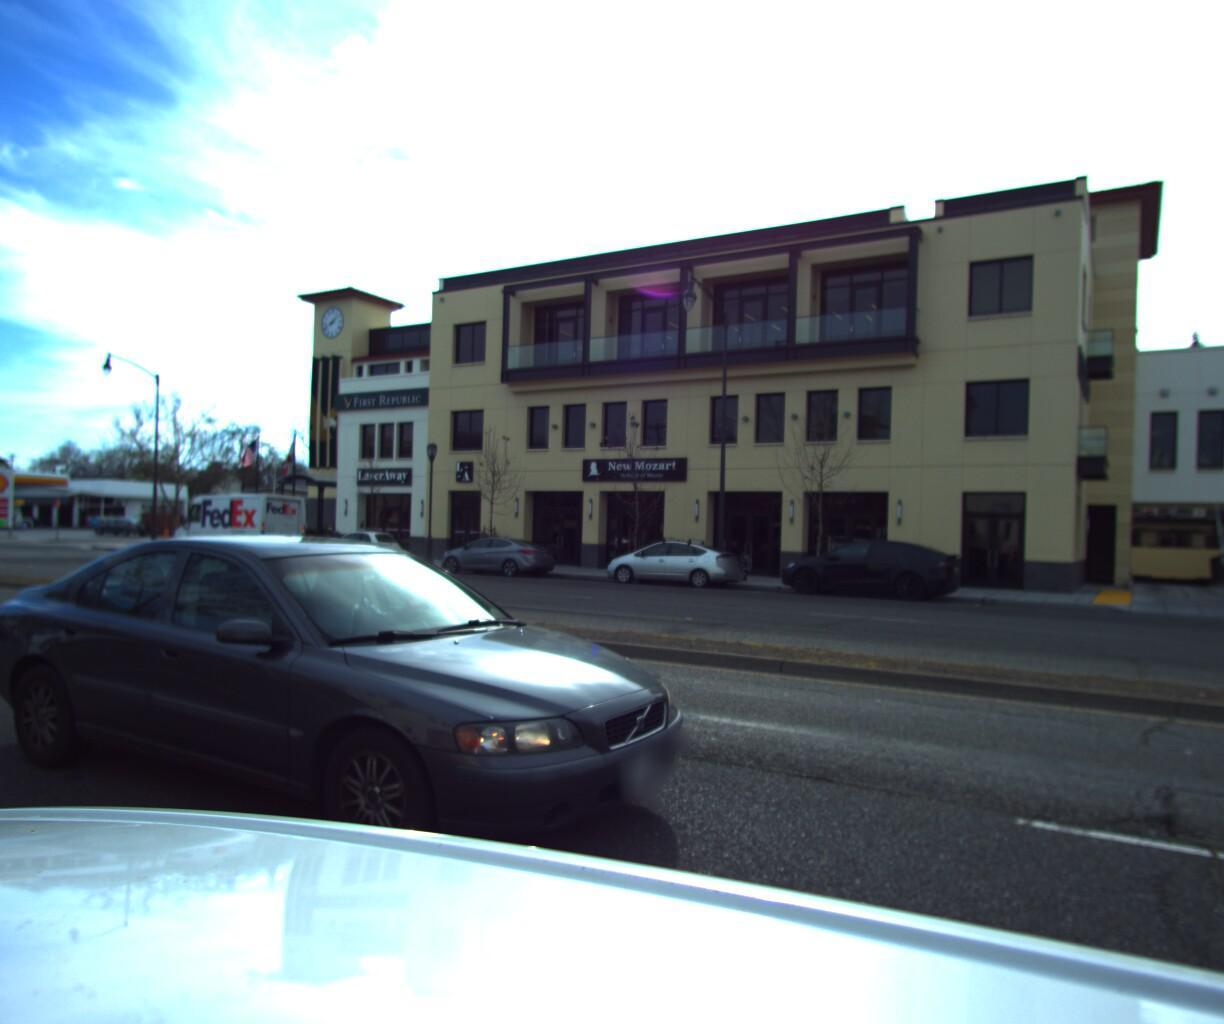bicycle: (303, 521, 356, 564)
car: (0, 510, 731, 928), (768, 529, 966, 600), (593, 528, 764, 588), (427, 526, 562, 575), (311, 522, 411, 565), (87, 510, 156, 532)
truck: (165, 485, 306, 559)
